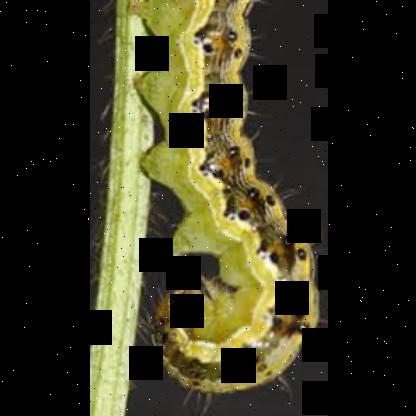oruga: (122, 0, 322, 402)
